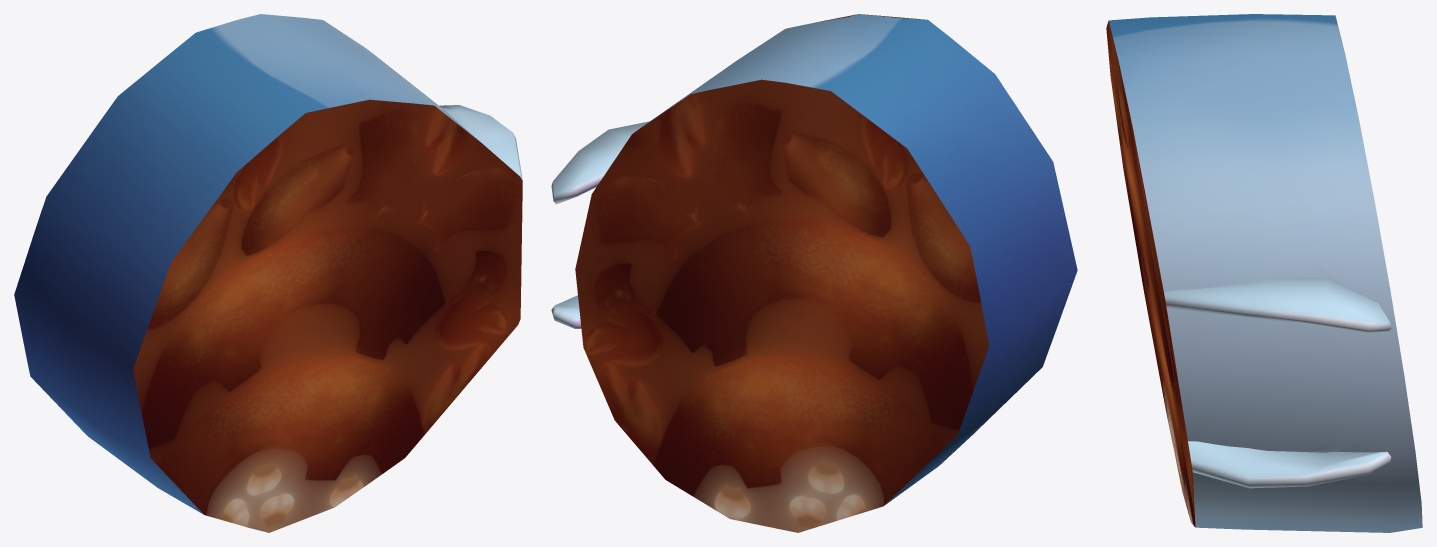
The model's file is fish03.fbx.
3 renders of one model, left to right at view 1: azimuth 30°, elevation 25°; view 2: azimuth 150°, elevation 25°; view 3: azimuth 270°, elevation 25°, orthographic. The views are drawn at different scales.
Visible parts, largest first — view 1: fish03; view 2: fish03; view 3: fish03.
Part boxes in pixels (x1,y1,x2,y2): fish03: [14, 14, 522, 532]; fish03: [551, 14, 1077, 532]; fish03: [1106, 14, 1422, 532].
Bounding box in the file's own units: 0.1979 × 0.1858 × 0.1112.
